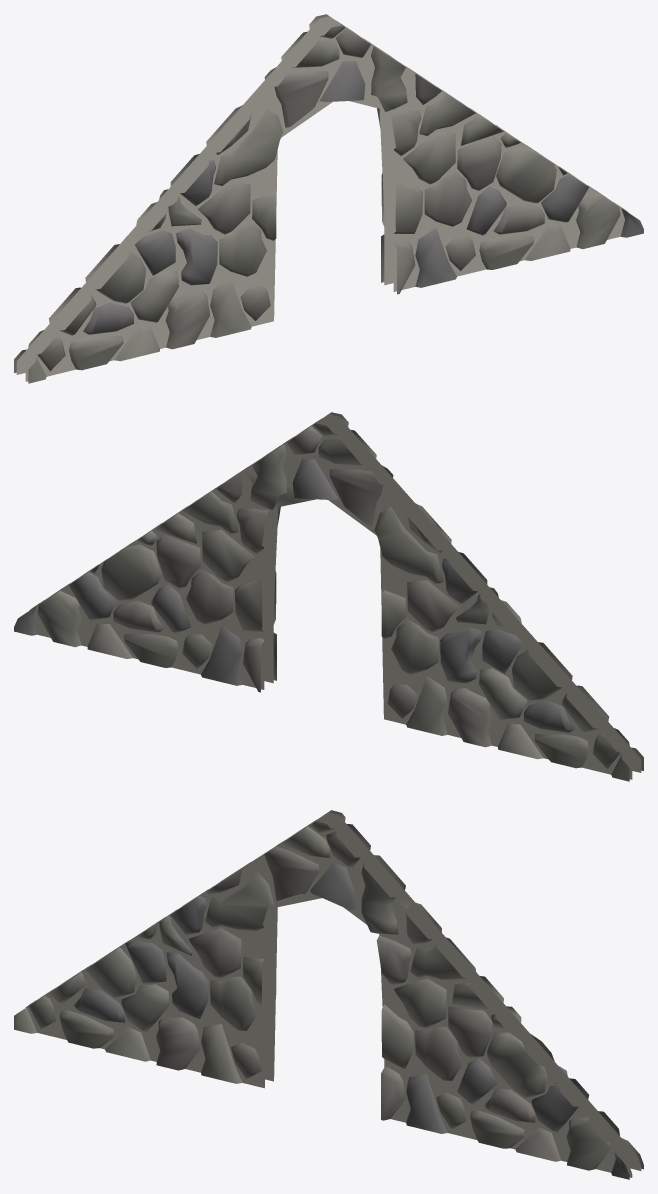
Rendered from rpgpp_ag_roof_end_01_9x4_wall_door_04c.fbx.
3 views of the same model, one above another, from view 1: azimuth 30°, elevation 25°; view 2: azimuth 150°, elevation 25°; view 3: azimuth 330°, elevation 25° (orthographic).
Parts seen in each view (by area): view 1: rpgpp_ag_roof_end_01_9x4_wall_door_04c; view 2: rpgpp_ag_roof_end_01_9x4_wall_door_04c; view 3: rpgpp_ag_roof_end_01_9x4_wall_door_04c.
Part boxes in pixels (box(x1,y1,x2,y2)): rpgpp_ag_roof_end_01_9x4_wall_door_04c: box(14, 14, 643, 383); rpgpp_ag_roof_end_01_9x4_wall_door_04c: box(14, 412, 643, 781); rpgpp_ag_roof_end_01_9x4_wall_door_04c: box(14, 810, 643, 1179).
Bounding box in the file's own units: 9 × 3.95 × 0.404.
